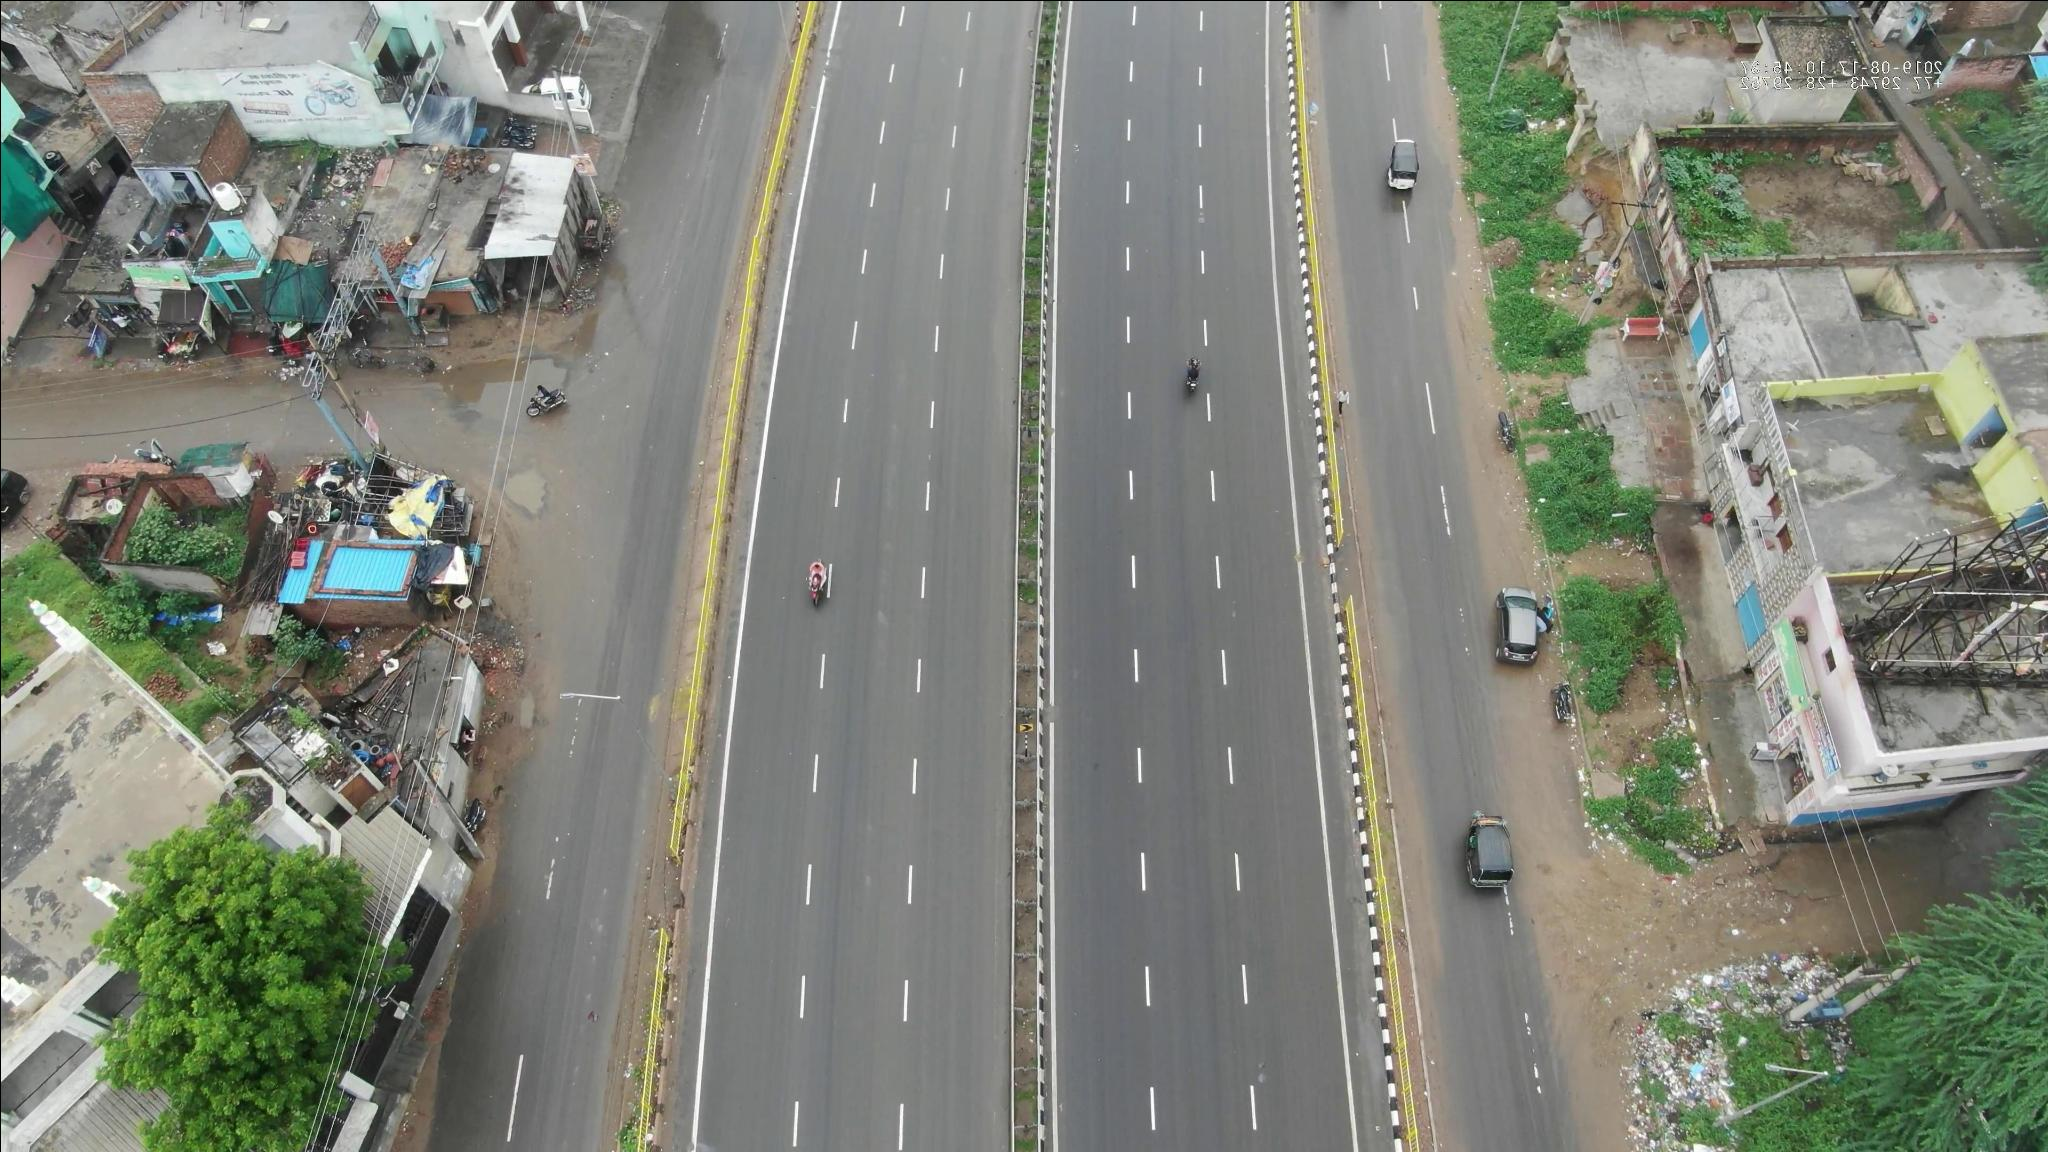Muddy_road: (1461, 371, 1549, 565), (1529, 748, 1573, 937)
Road_side_garbage: (1627, 966, 1768, 1120)
